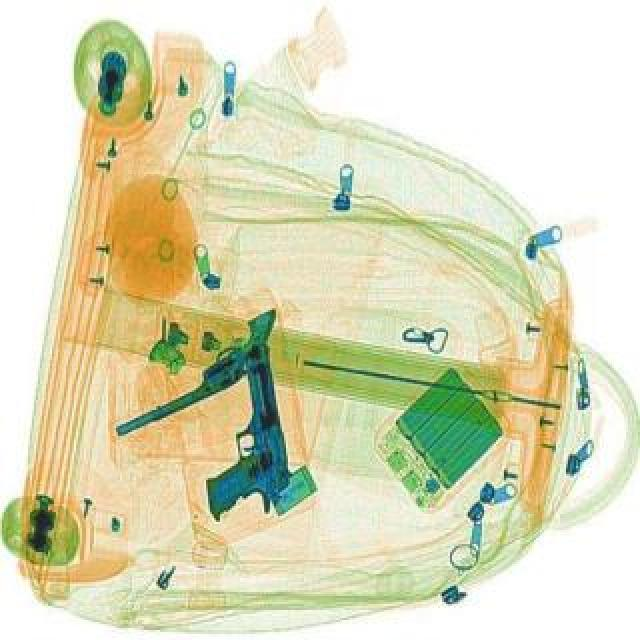gun: (94, 304, 298, 442), (178, 342, 300, 522)
